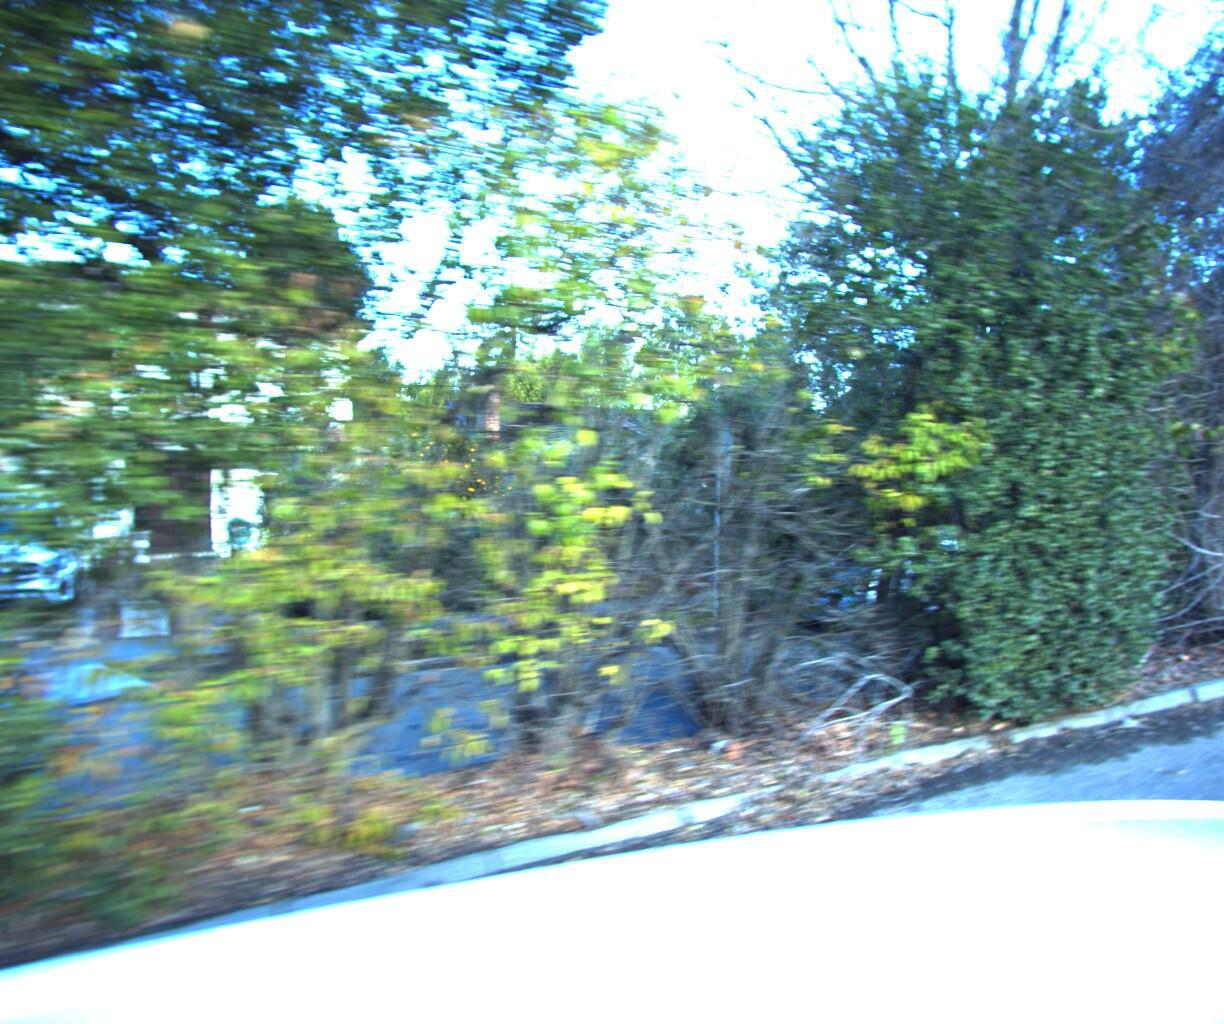car: (0, 491, 91, 647)
